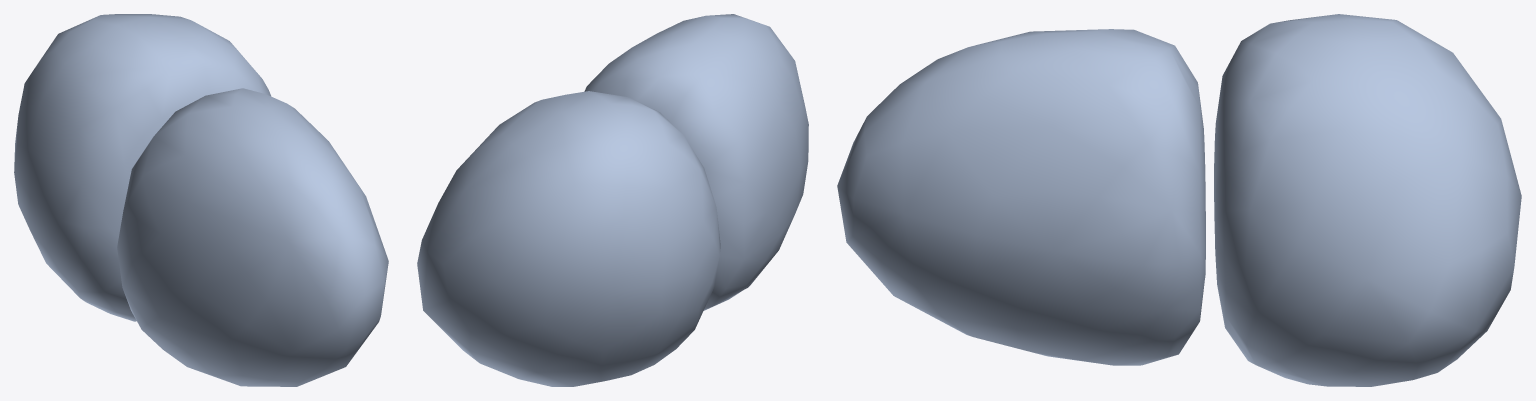
The picture shows the model from 3 angles, left to right: view 1: azimuth 30°, elevation 25°; view 2: azimuth 150°, elevation 25°; view 3: azimuth 270°, elevation 25°; orthographic projection. The views are drawn at different scales.
Parts seen in each view (by area): view 1: 左侧筛骨前群小房; view 2: 左侧筛骨前群小房; view 3: 左侧筛骨前群小房.
Part boxes in pixels (x1,y1,x2,y2): 左侧筛骨前群小房: (14, 14, 388, 386); 左侧筛骨前群小房: (417, 14, 808, 386); 左侧筛骨前群小房: (837, 14, 1521, 386).
Size of the model in its own units: 0.0106 by 0.0113 by 0.0209.
